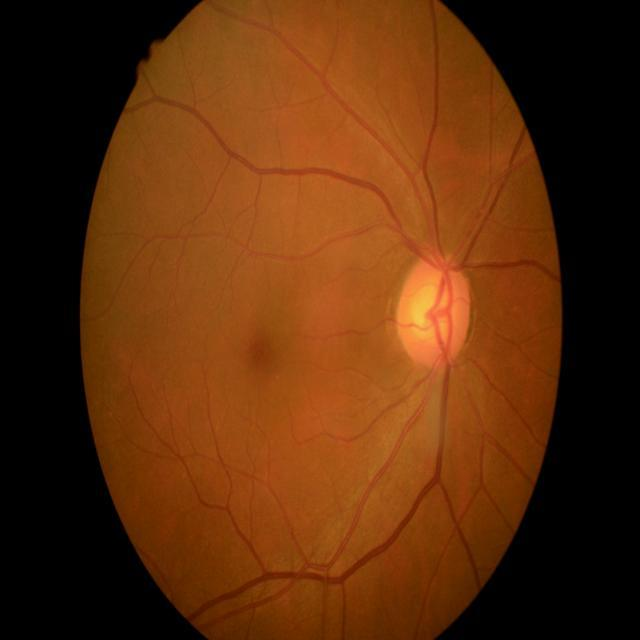cup: (411, 270, 457, 348)
disk: (396, 255, 471, 369)
